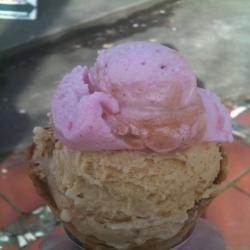icecream: (25, 31, 227, 250)
